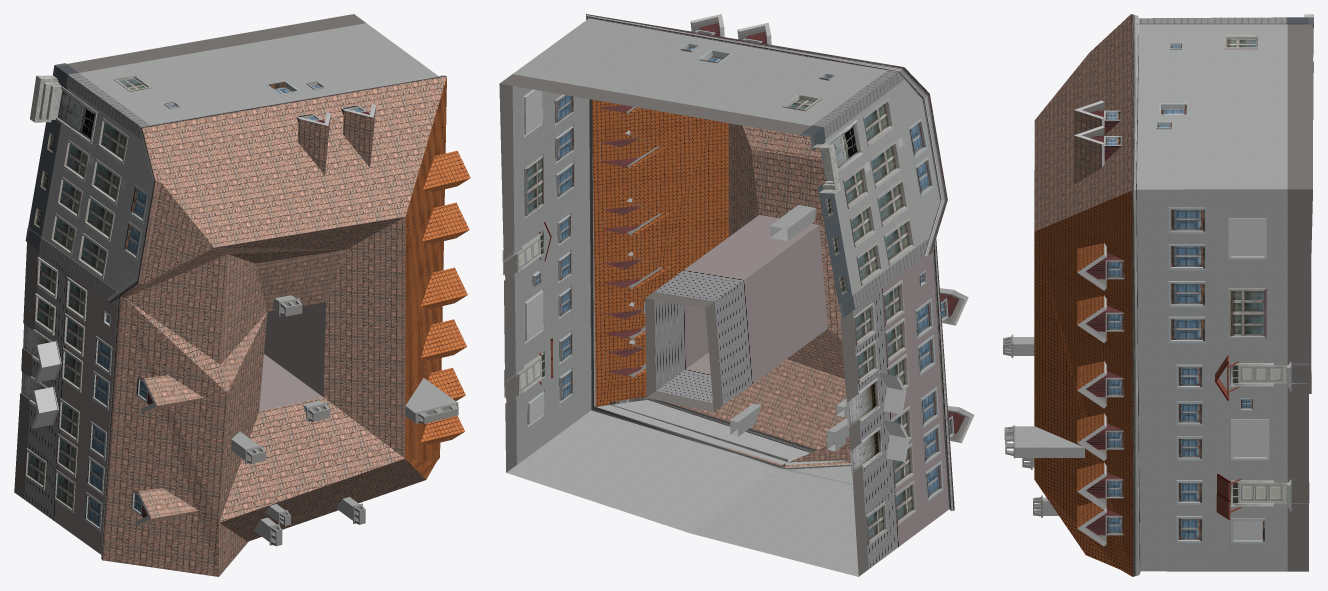
Rendered from Uus_32.obj.
3 views of the same model, side by side, from view 1: azimuth 30°, elevation 25°; view 2: azimuth 150°, elevation 25°; view 3: azimuth 270°, elevation 25° (orthographic). The views are drawn at different scales.
Visible parts, largest first — view 1: Uus_32; view 2: Uus_32; view 3: Uus_32.
Part boxes in pixels (x1,y1,x2,y2): Uus_32: [14, 14, 470, 576]; Uus_32: [499, 14, 974, 576]; Uus_32: [1003, 14, 1313, 576].
Size of the model in its own units: 21.49 by 23.57 by 15.34.
